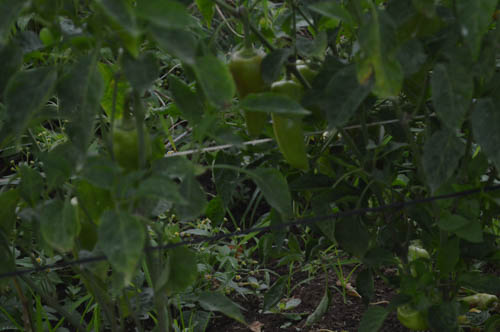ChiliPepper: (265, 81, 305, 159), (234, 54, 262, 135)
